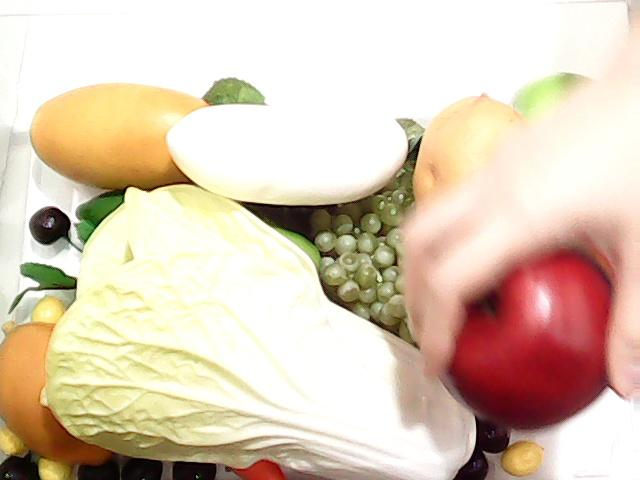apple: (444, 240, 616, 422), (513, 72, 599, 116)
carrot: (227, 456, 285, 480)
grape: (271, 172, 427, 351)
lemon: (0, 321, 120, 470)
mango: (27, 82, 263, 200)
napa cabbage: (31, 191, 485, 480)
pepper: (67, 180, 321, 280)
potato: (409, 88, 531, 220)
radish: (162, 98, 408, 206)
